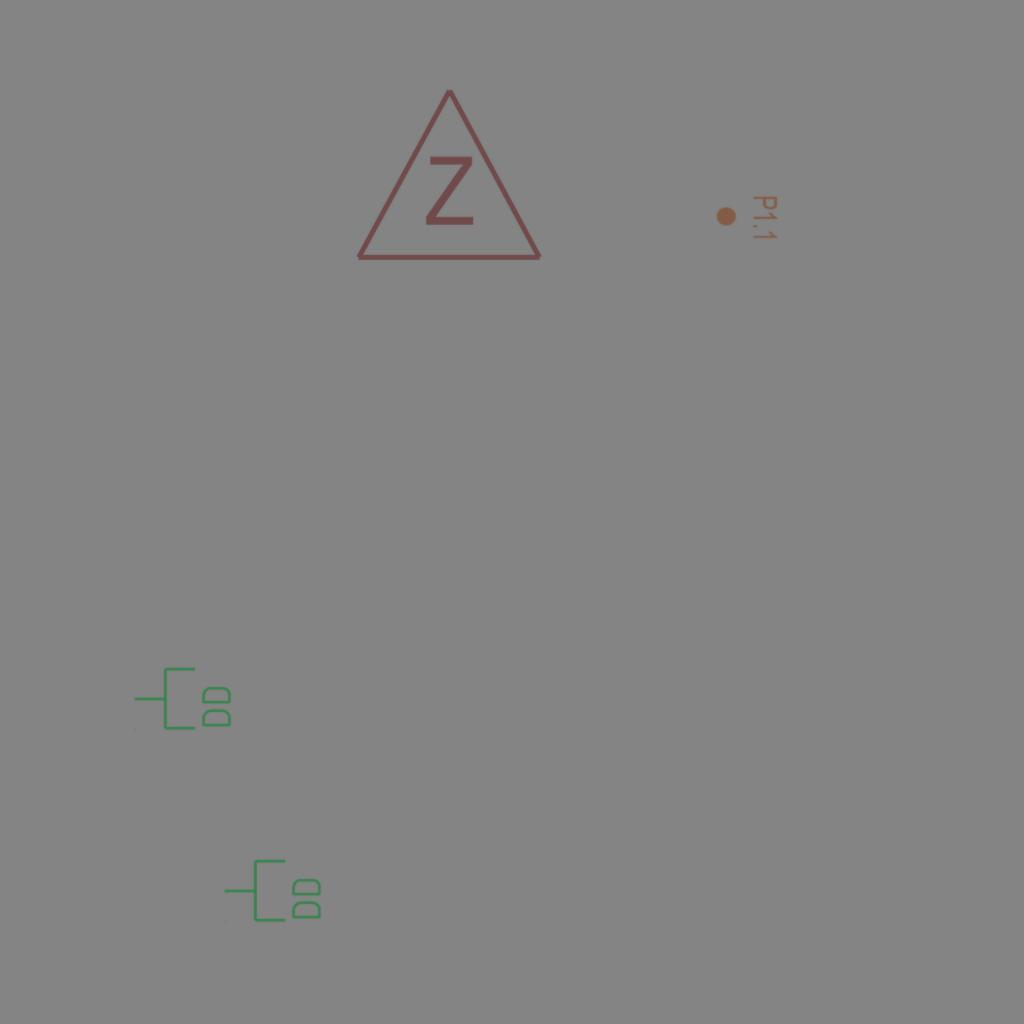Datenanschluss_zweifach: (132, 665, 235, 734), (222, 857, 325, 926)
Downlight_LED_Einbauleuchten_Flur: (715, 195, 779, 241)
Zimmersignalleuchte: (349, 75, 545, 275)
